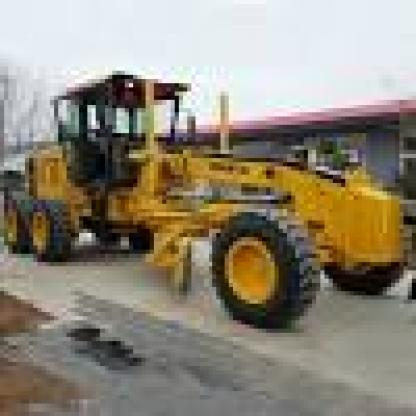bull_dozer/loader/grader: (8, 58, 412, 366)
